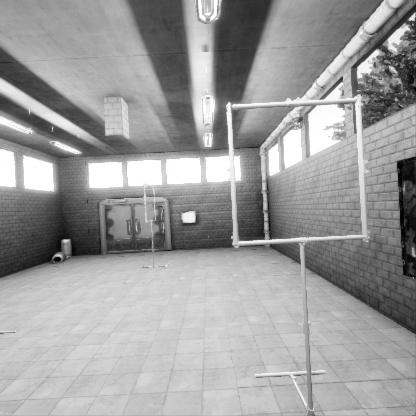gate: (231, 174, 383, 327), (143, 194, 155, 234)
